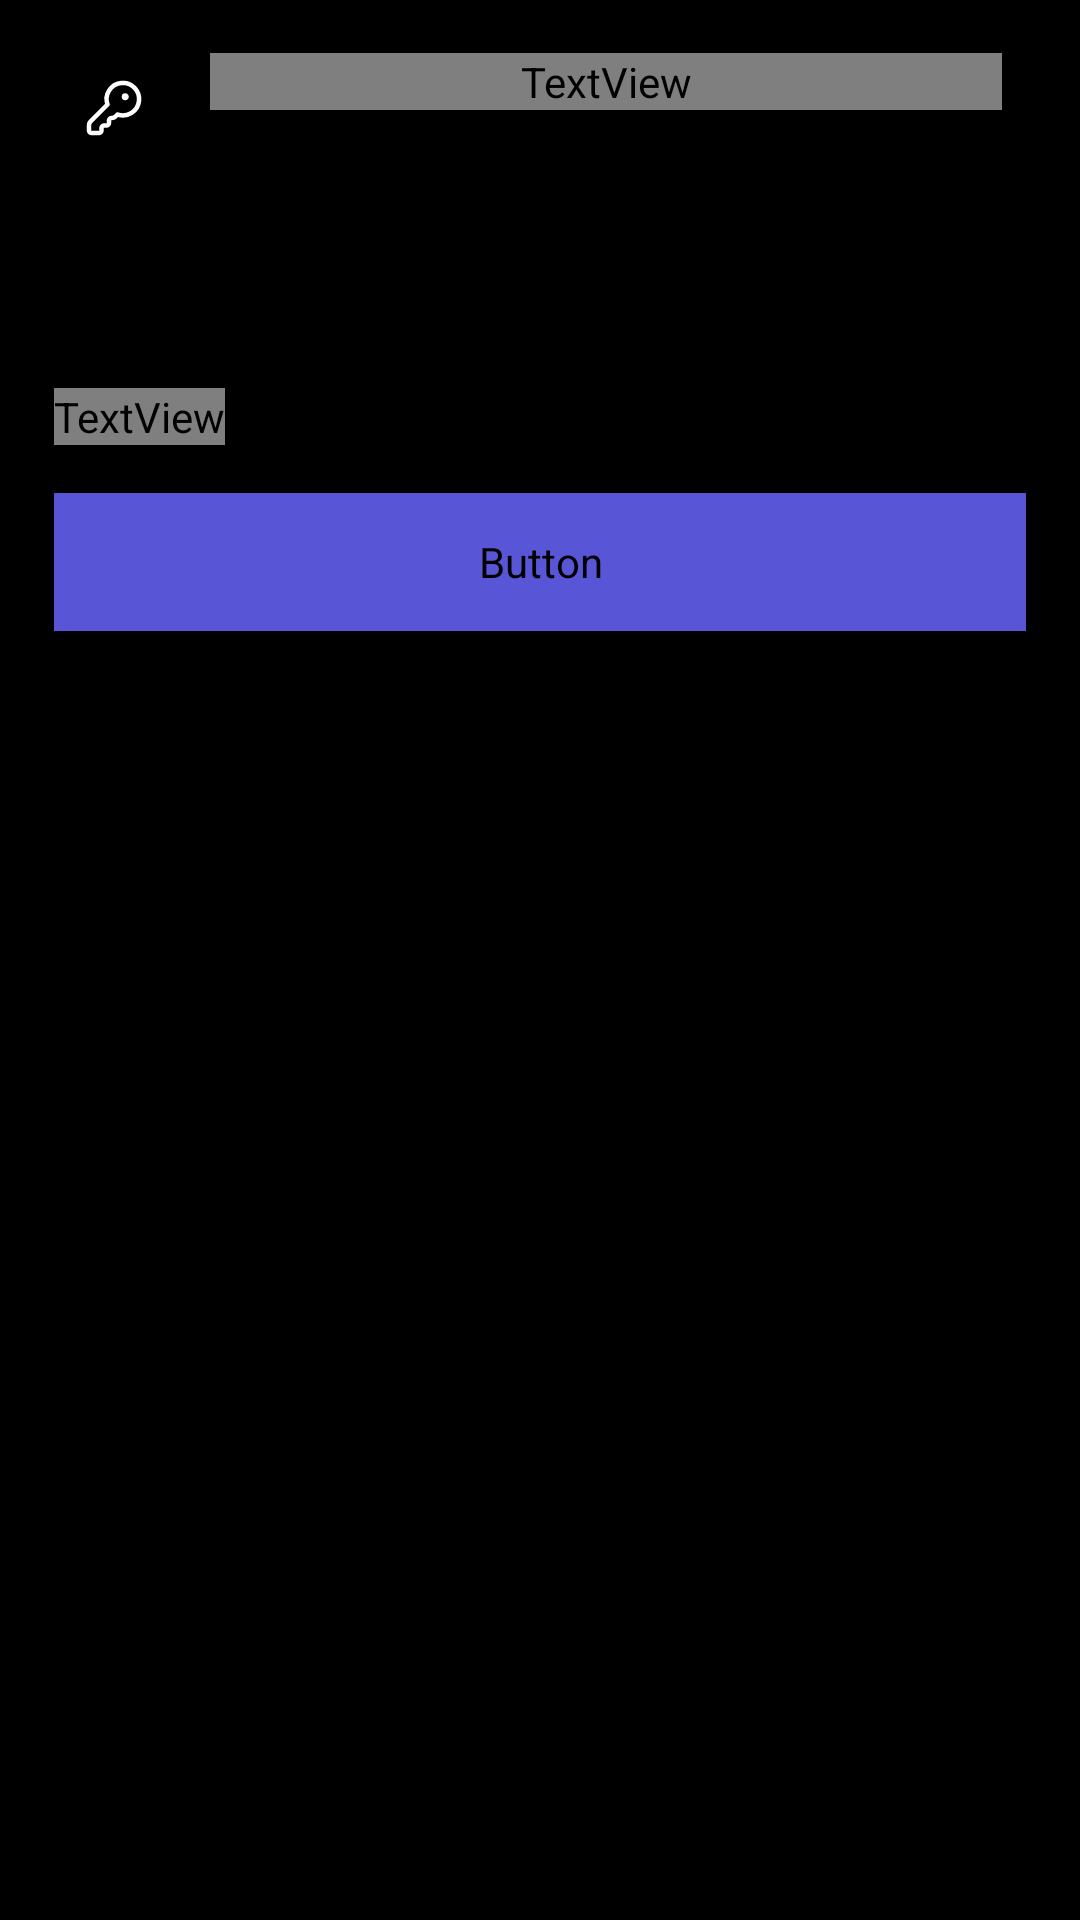

Where to tap for icons on this 1080*1920 app screen, as point (x, y):
key: point (114, 108)
